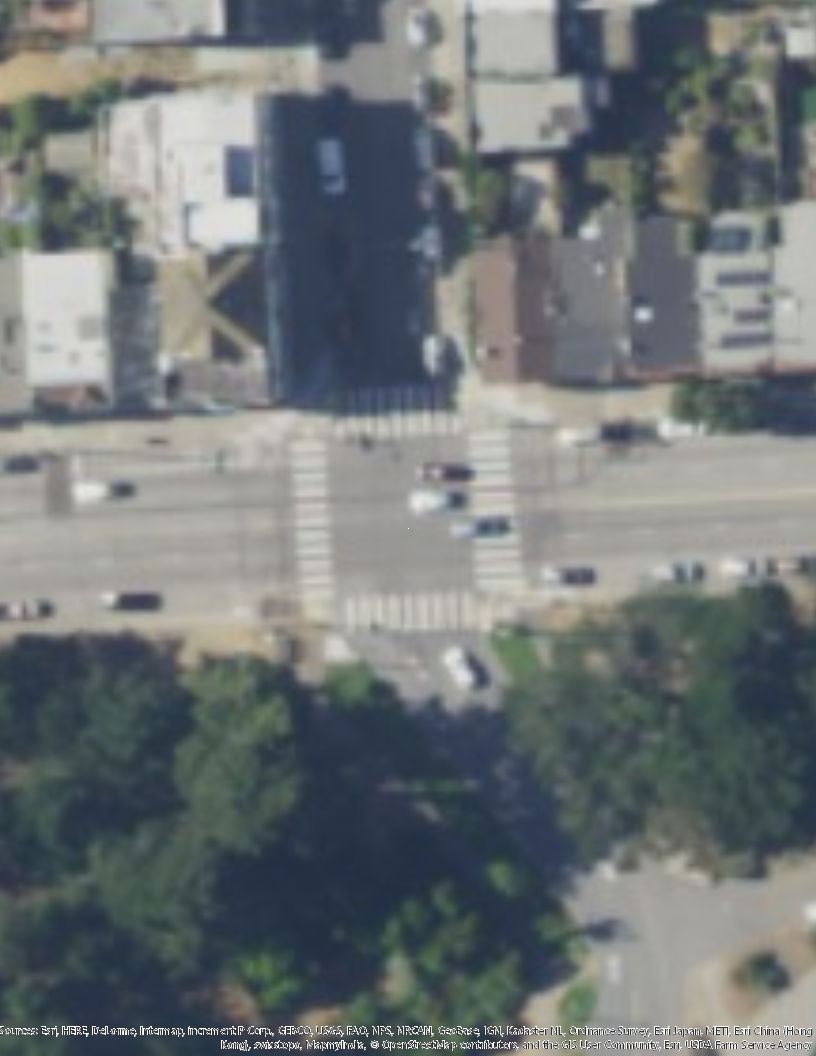zebracross: (468, 429, 527, 589), (329, 381, 456, 438), (290, 442, 331, 593), (345, 593, 485, 633)
